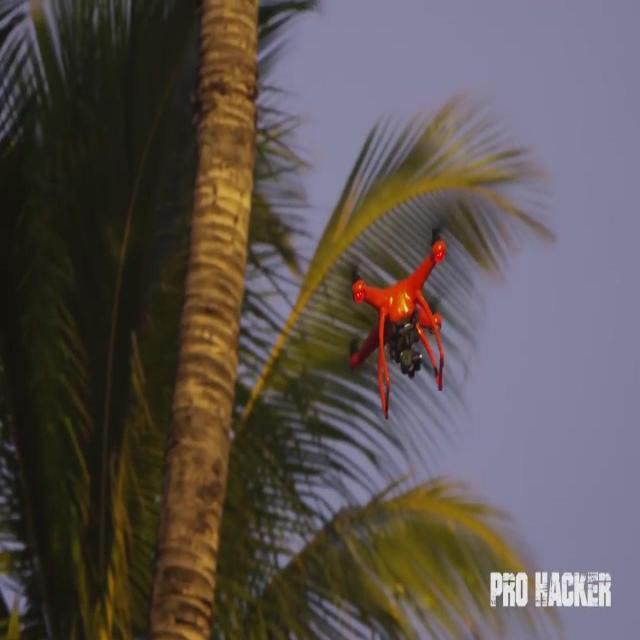drone: (348, 224, 448, 421)
